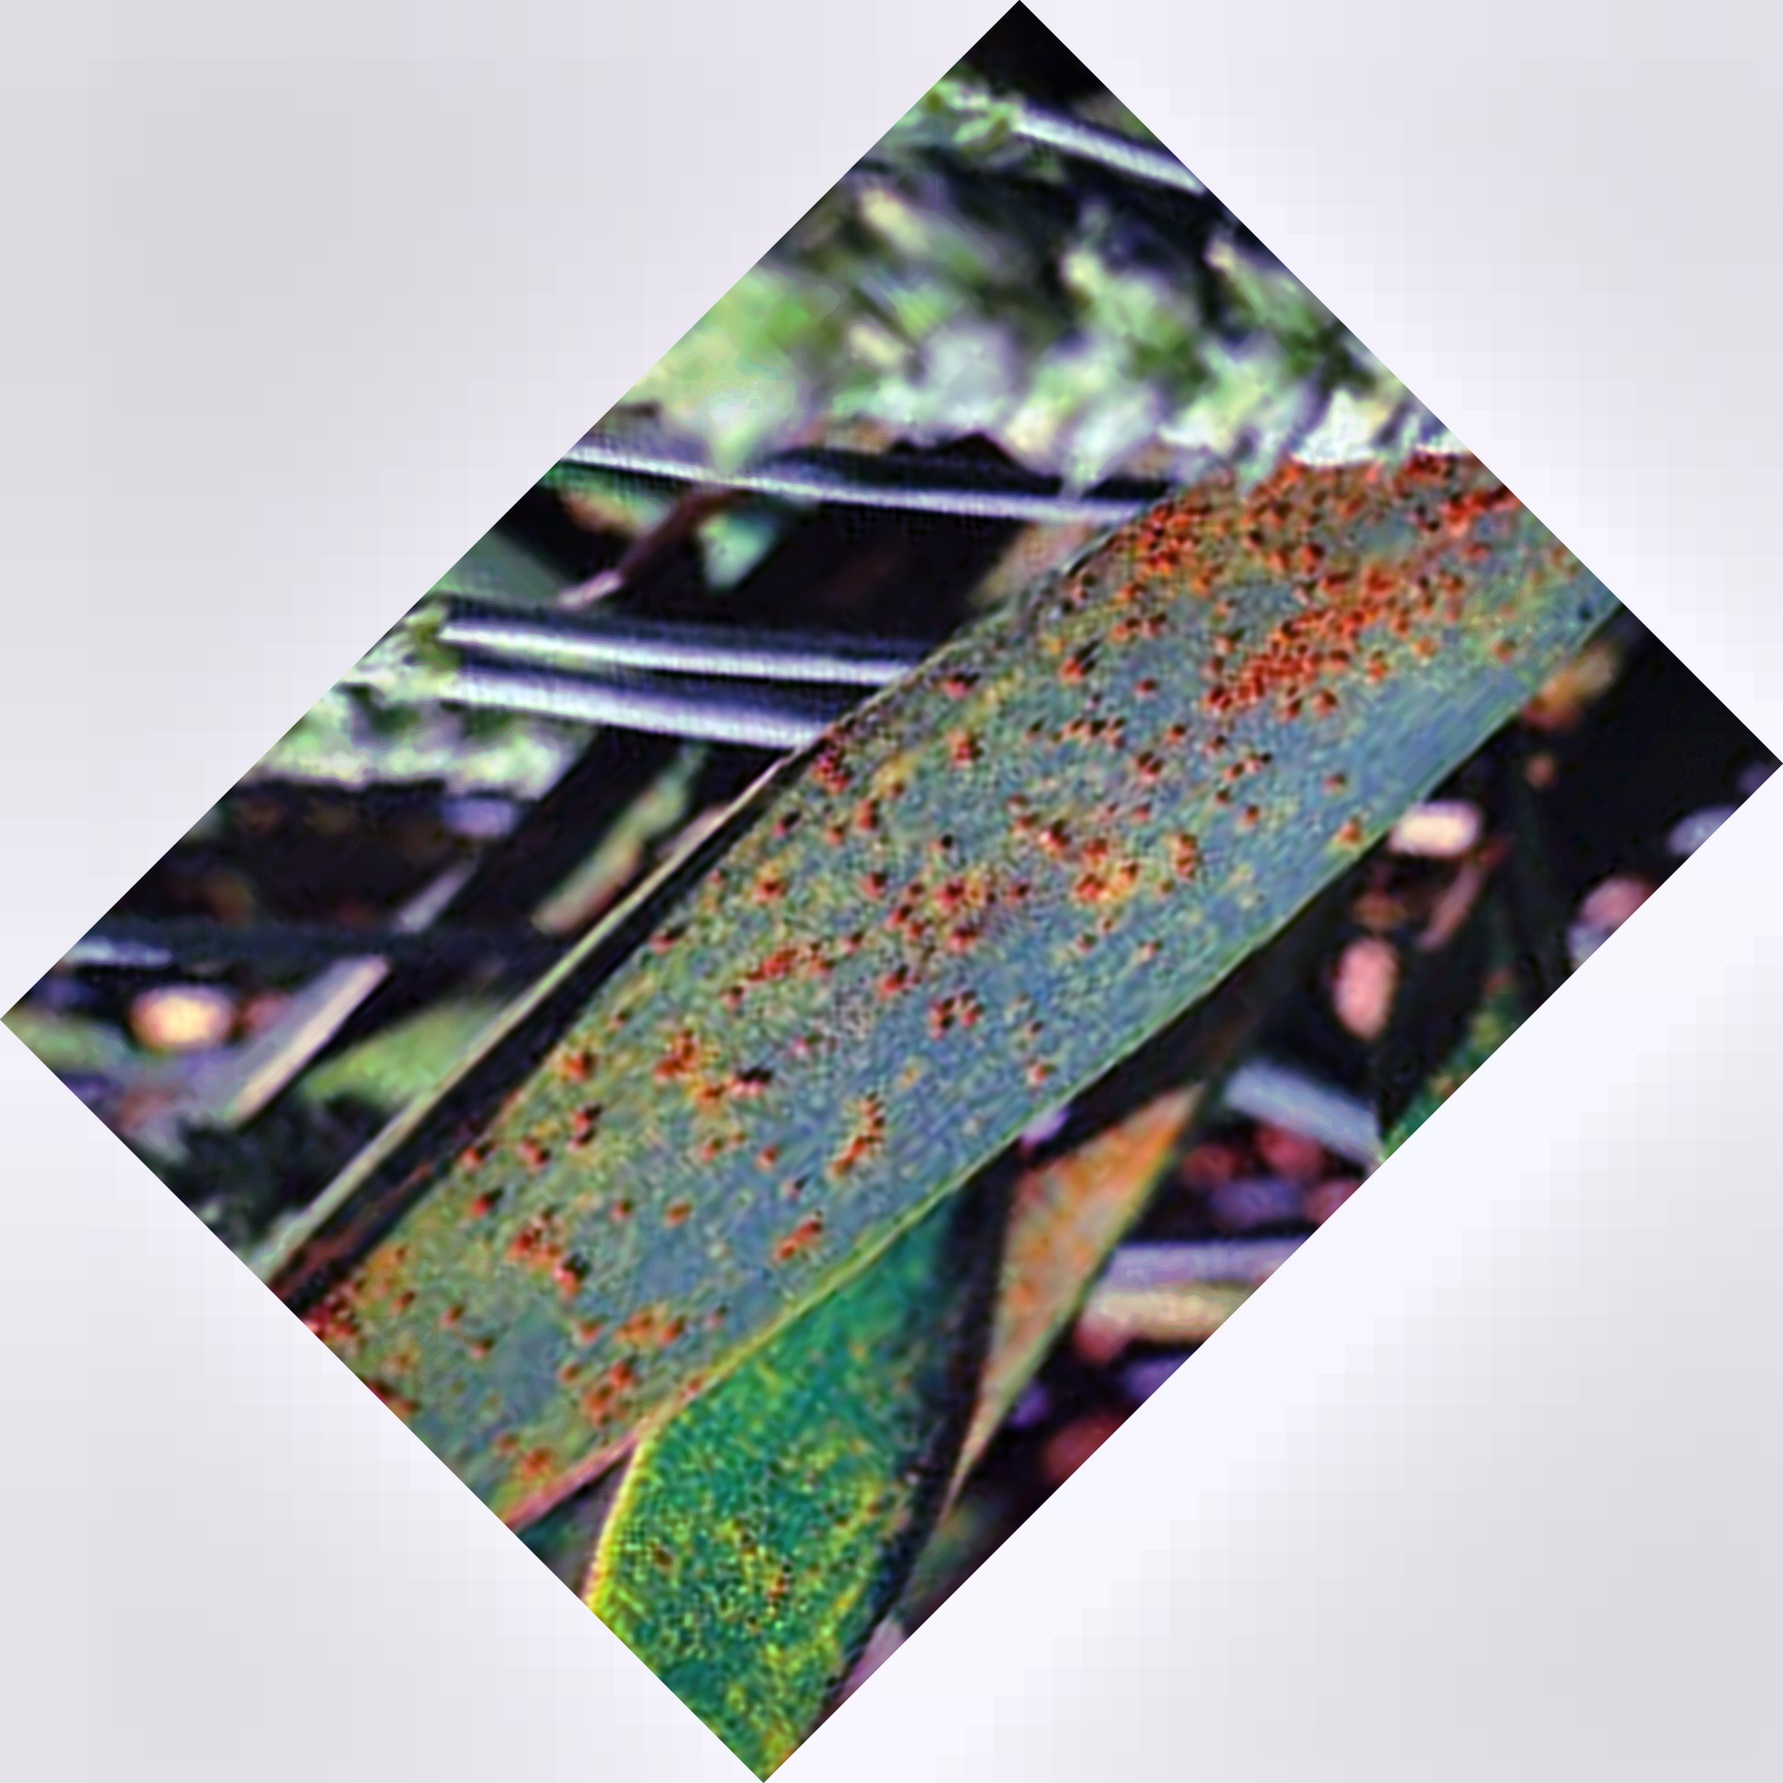Leaf Rust: (487, 454, 1476, 1391)
